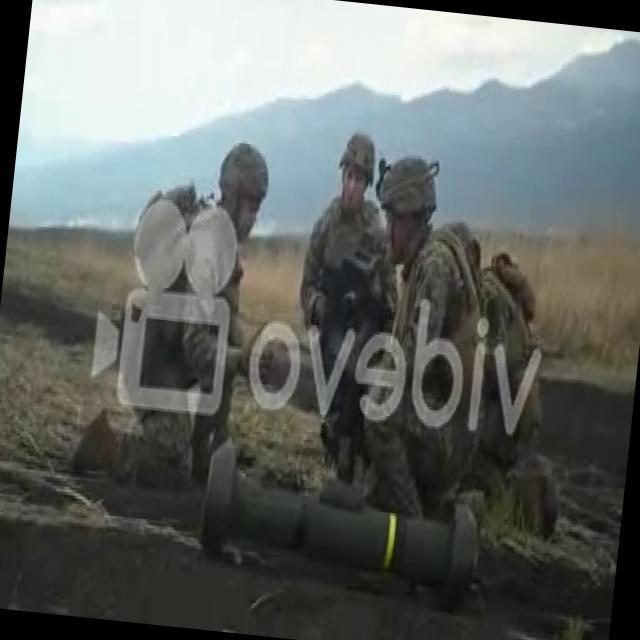rocket: (196, 442, 489, 600)
